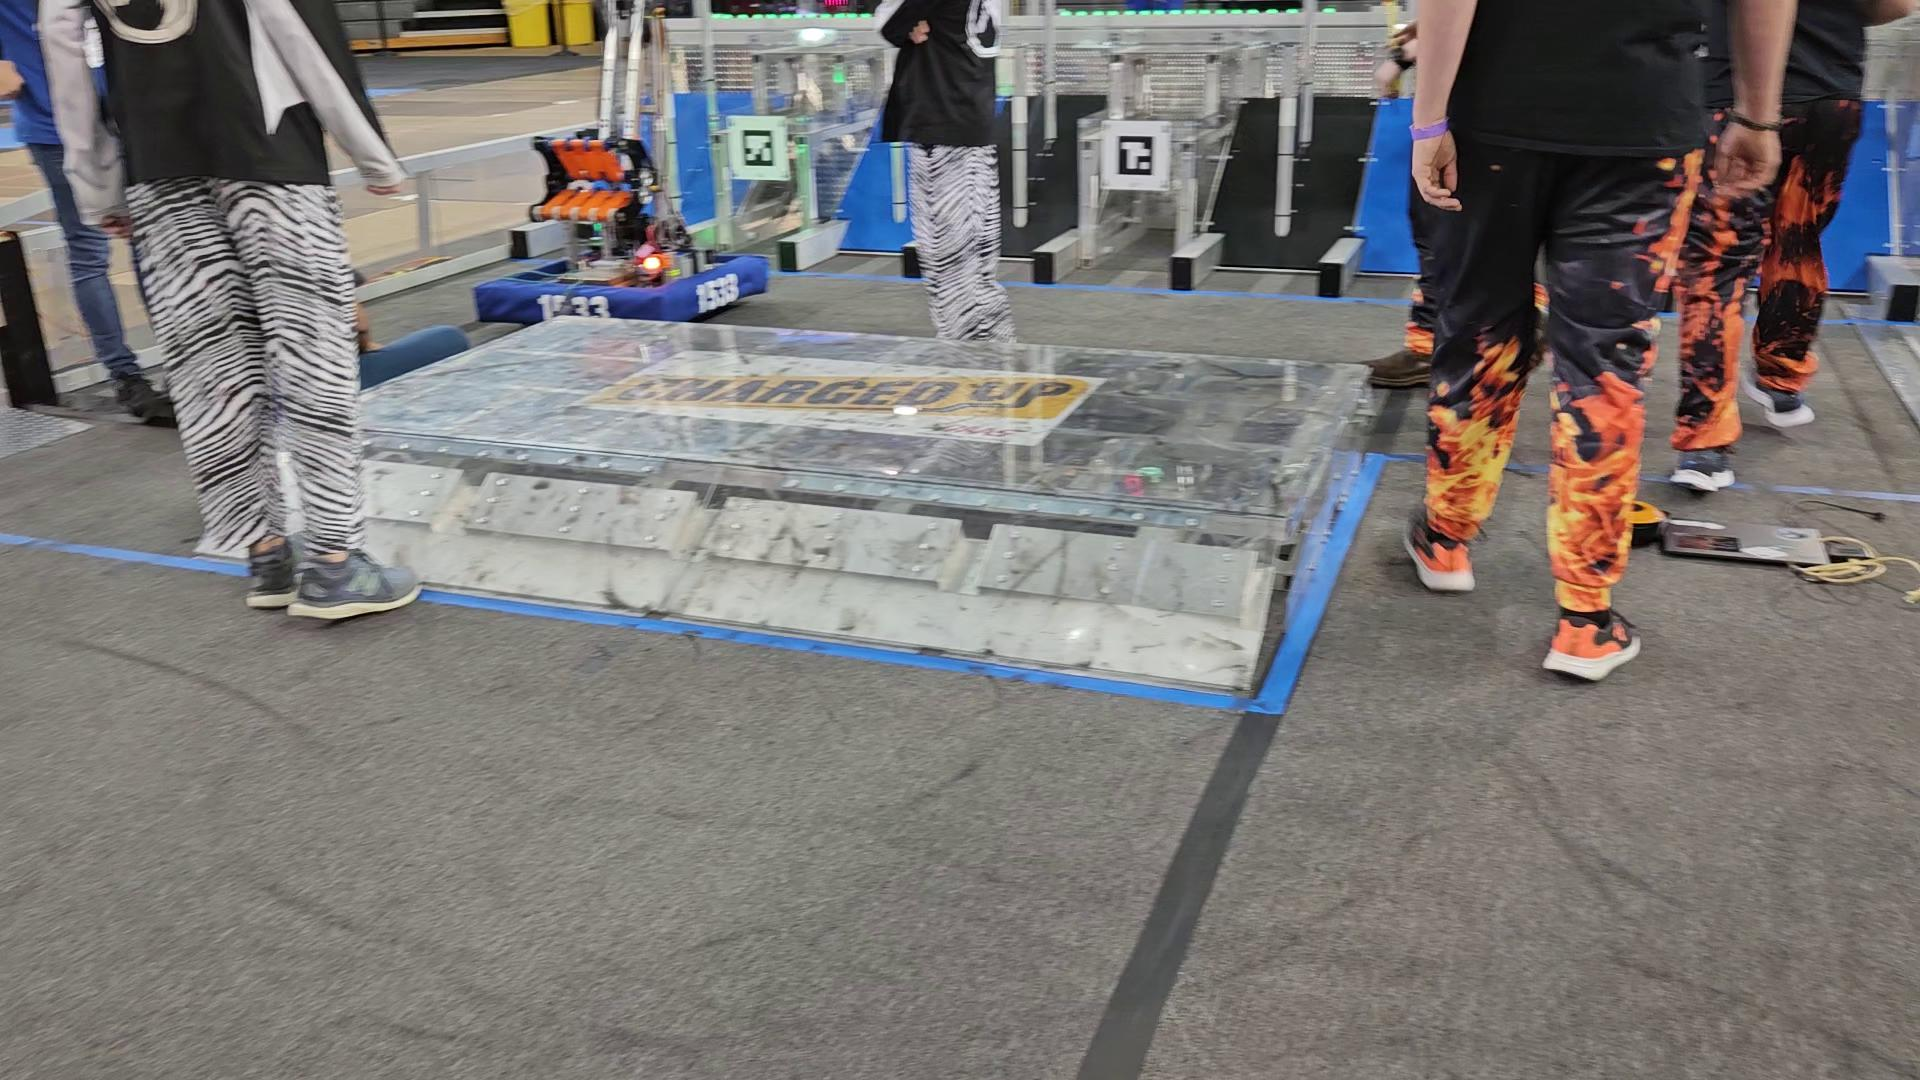robot: (473, 133, 769, 324)
